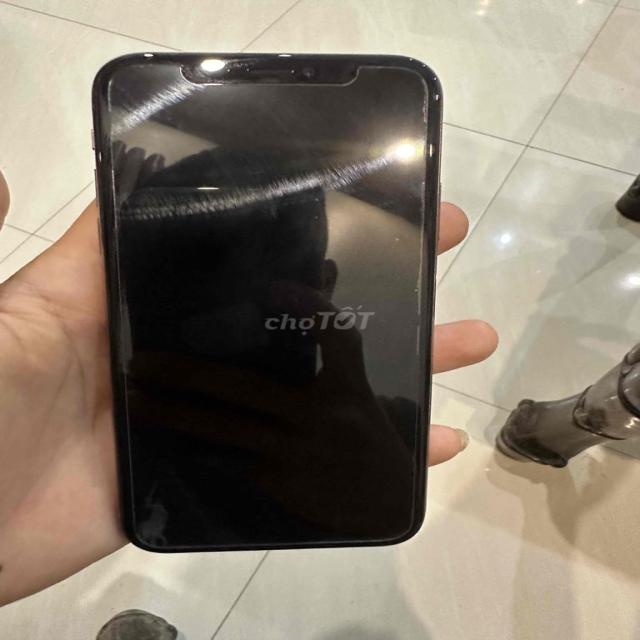scratch: (124, 492, 196, 560)
